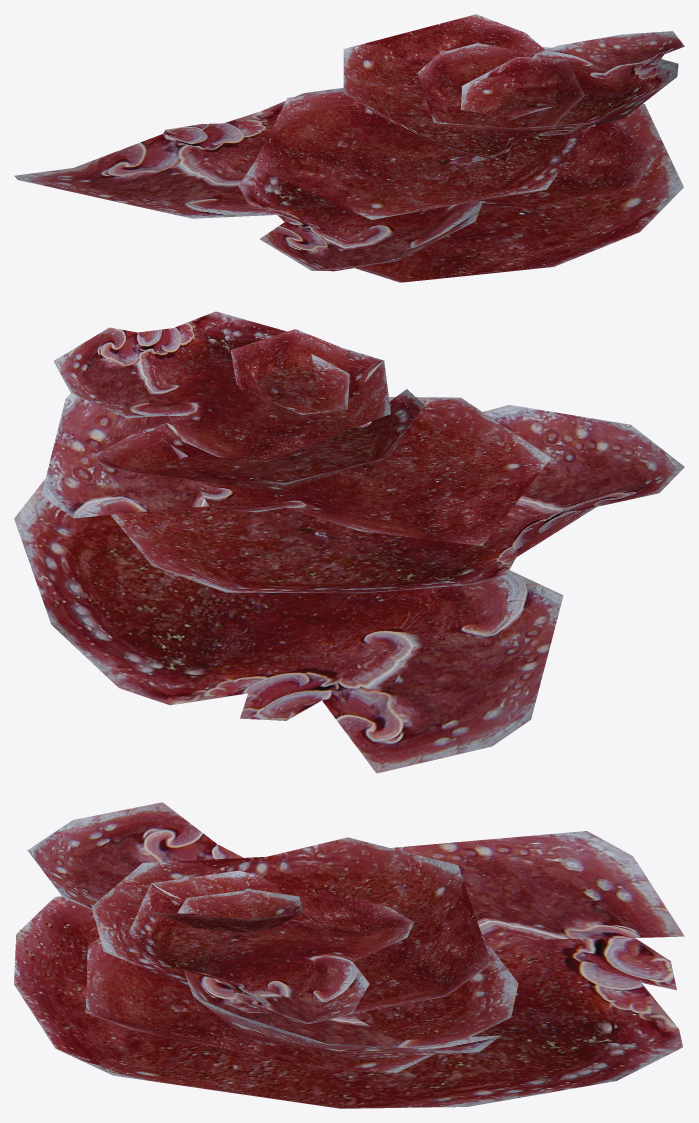
Rendered from SM_CoralineA.fbx.
3 renders of one model, top to bottom at view 1: azimuth 30°, elevation 25°; view 2: azimuth 150°, elevation 25°; view 3: azimuth 270°, elevation 25°, orthographic. The views are drawn at different scales.
Visible parts, largest first — view 1: SM_CorallineA_LOD1; view 2: SM_CorallineA_LOD1; view 3: SM_CorallineA_LOD1.
Boxes of the visible parts, x1,y1,x2,y2 form: SM_CorallineA_LOD1: (14,14,684,282); SM_CorallineA_LOD1: (14,311,684,773); SM_CorallineA_LOD1: (14,802,684,1108).
Bounding box in the file's own units: 138 × 40.67 × 124.
